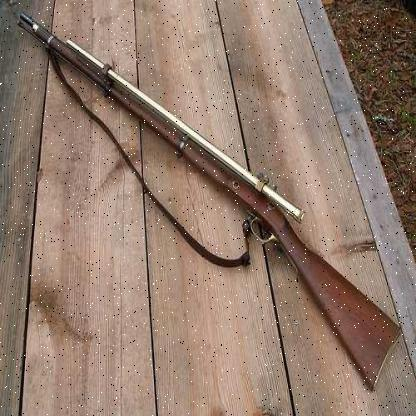rifle: (20, 8, 410, 403)
